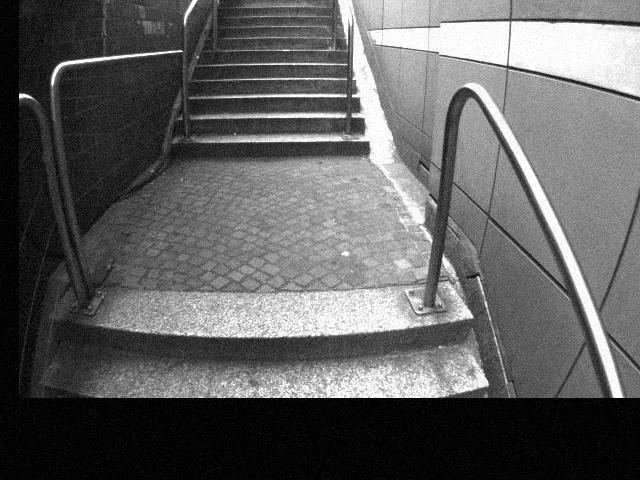Escaleras: (31, 281, 487, 397), (173, 0, 374, 158)
